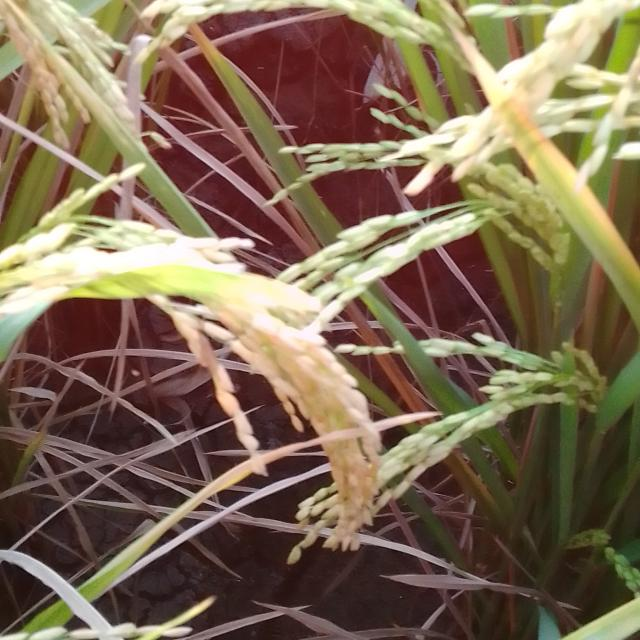Brown spot: (530, 147, 629, 274), (438, 18, 494, 83)
